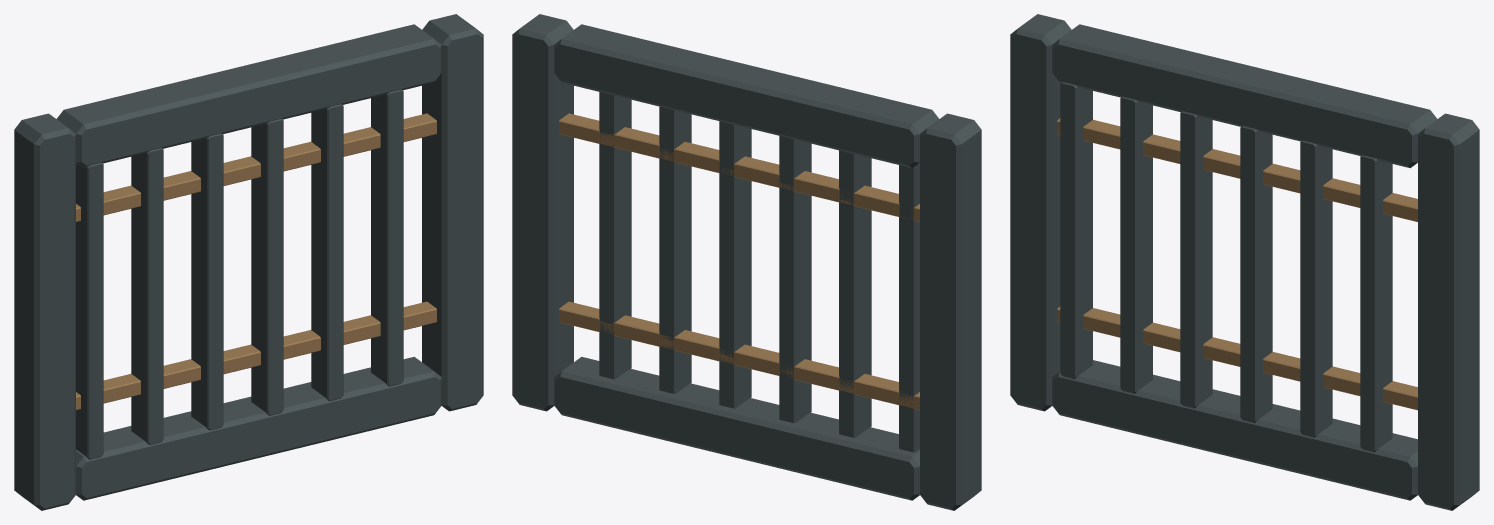
File: wall-grille.glb
3 views of the same model, side by side, from view 1: azimuth 30°, elevation 25°; view 2: azimuth 150°, elevation 25°; view 3: azimuth 330°, elevation 25° (orthographic).
Parts seen in each view (by area): view 1: wall-grille__body; view 2: wall-grille__body; view 3: wall-grille__body.
Boxes of the visible parts, bbox=[...] form: wall-grille__body: bbox=[14, 14, 483, 510]; wall-grille__body: bbox=[512, 14, 981, 510]; wall-grille__body: bbox=[1010, 14, 1479, 510].
Size of the model in its own units: 1.5 by 1.2 by 0.14.
